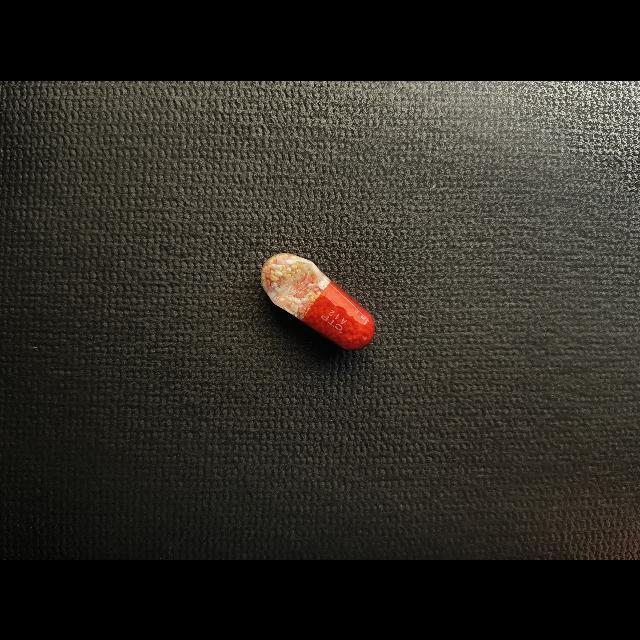Defective Capsule: (261, 252, 375, 349)
